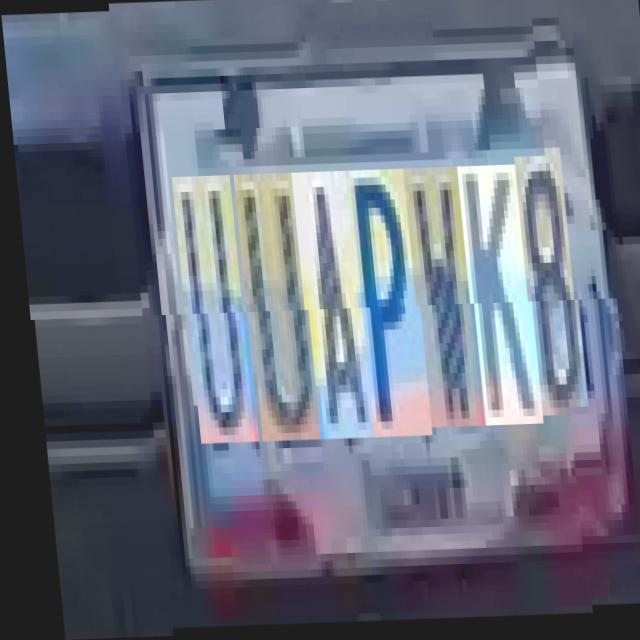8: (514, 160, 580, 420)
A: (292, 173, 366, 441)
K: (457, 168, 535, 430)
P: (346, 172, 424, 440)
U: (172, 176, 250, 444), (234, 175, 312, 443)
W: (403, 170, 477, 431)
